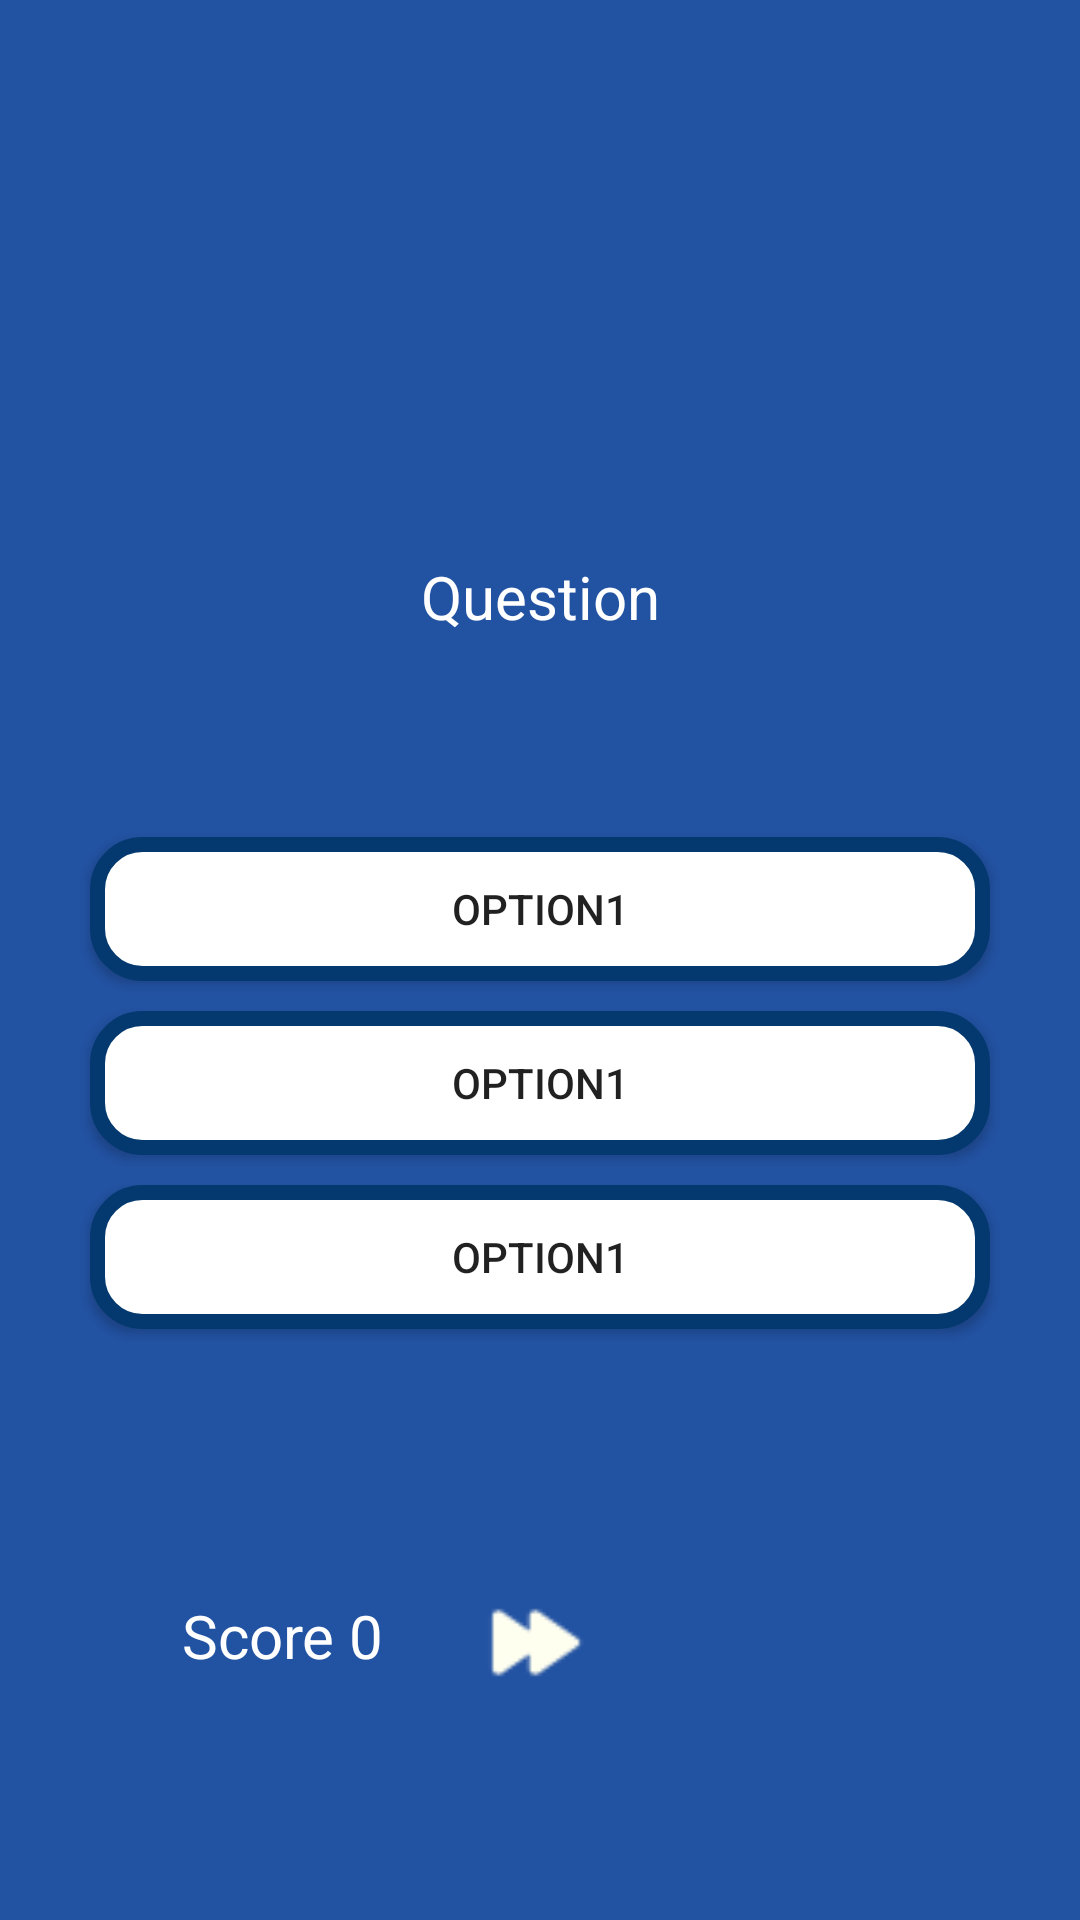

Where to tap for icons on this 1080 x 1920 app screen, as (x,y):
skip: (536,1642)
